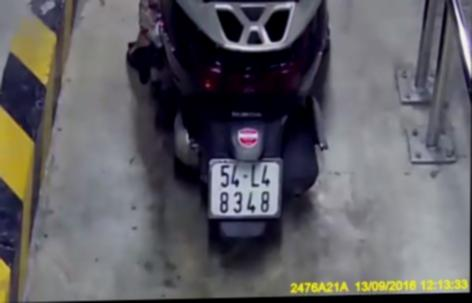License_Plate: (200, 149, 285, 229)
